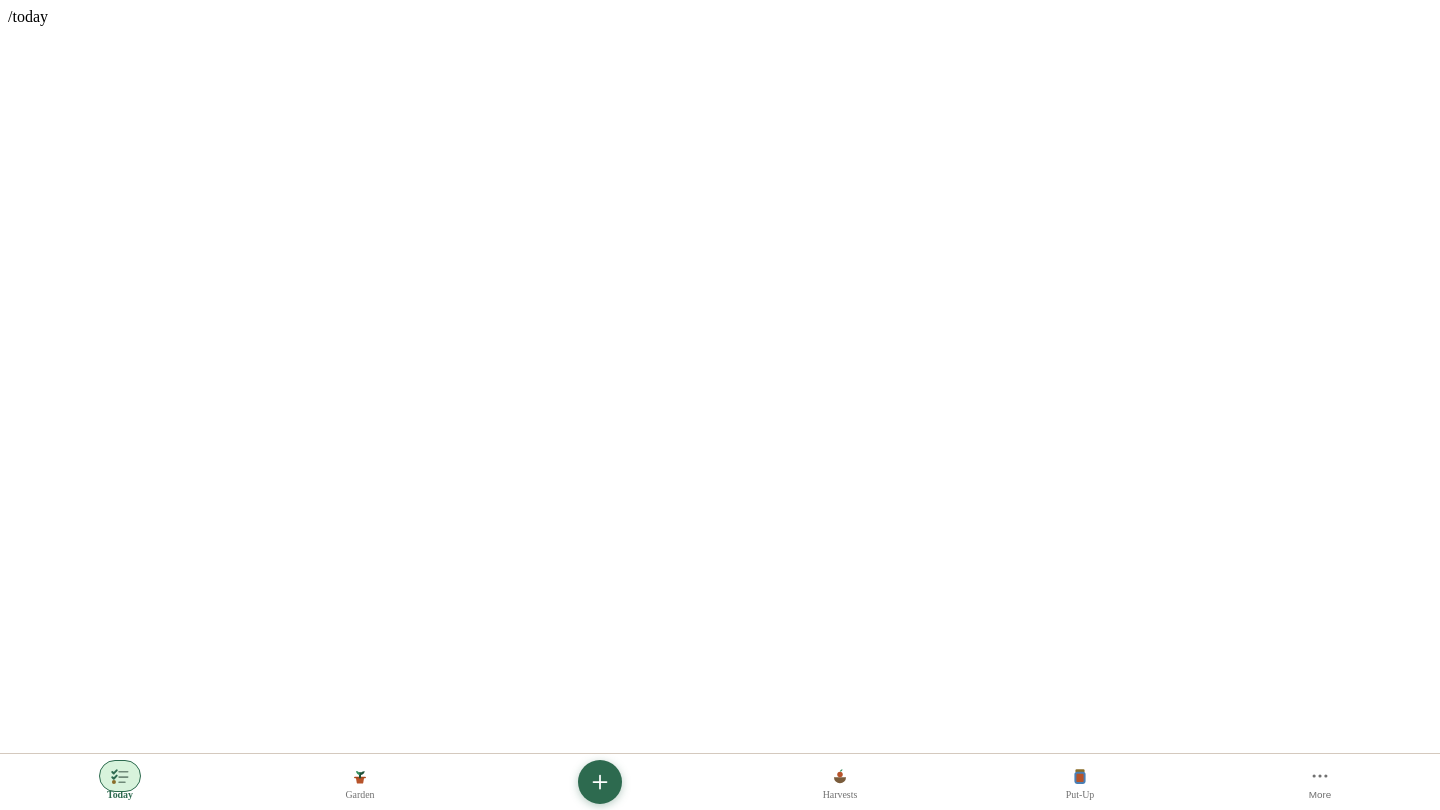
Test case: ACCEPTANCE 3 — the second sheet (+LOG create) gets identical treatment › a PAGE row (Sow from seed) consumes the entry: Back returns to the tab
The image size is (1440, 810).
Click the button named "Create" at point(600, 782), box [480,754,720,809]
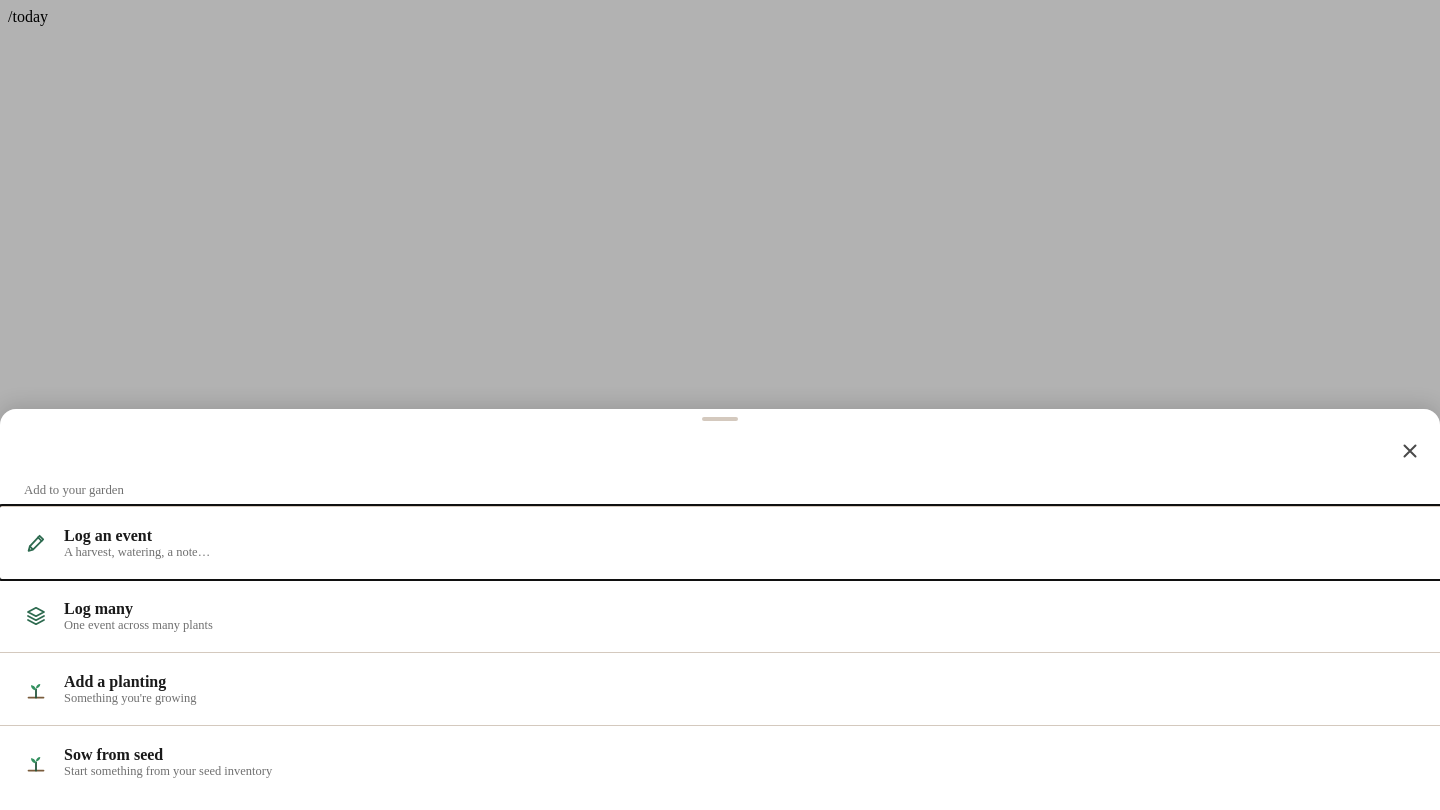
Click the text "Sow from seed" at point(114, 754), box [64,746,163,762]
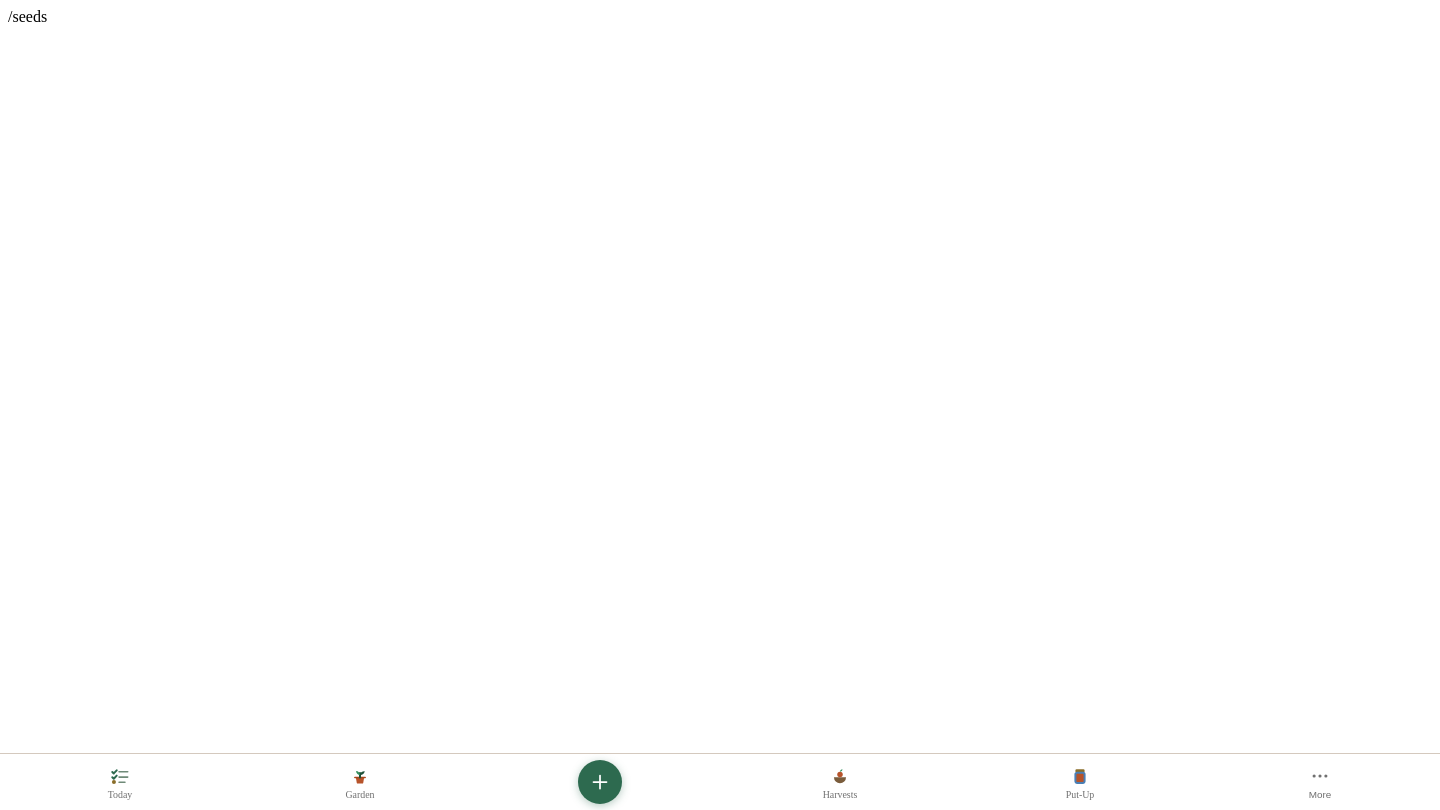
Now the text with test id "path" reads "/seeds", box [8,8,47,25]
